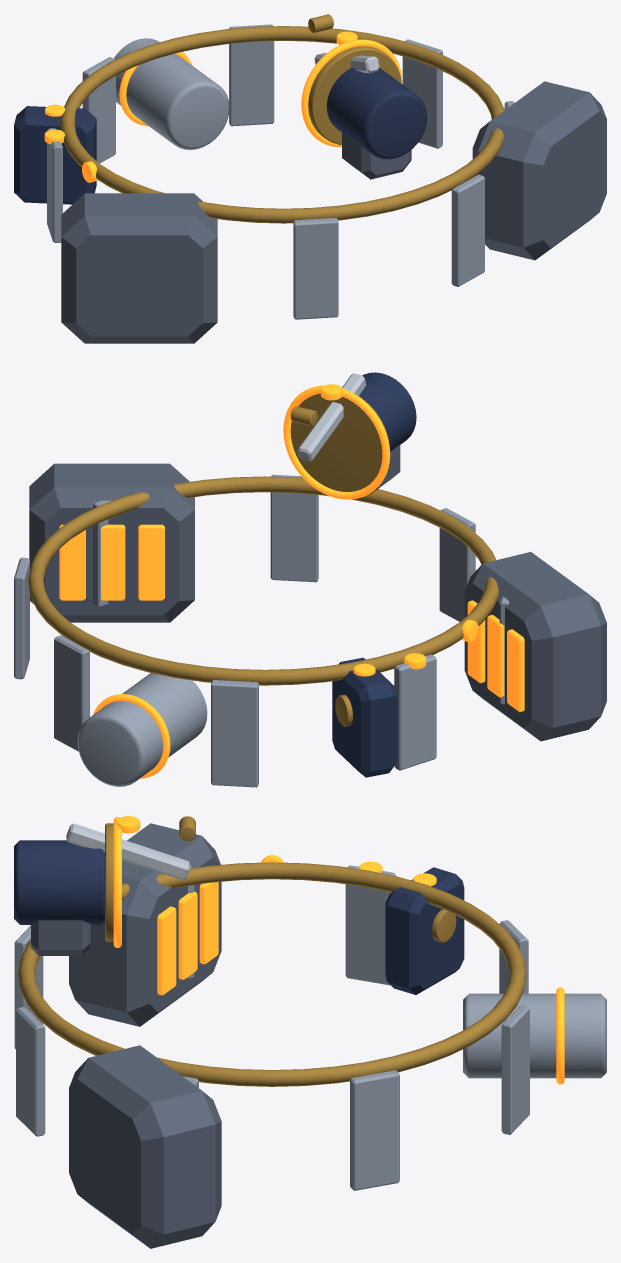
Rendered from tower_overclock_efficiency_s9.glb.
3 renders of one model, top to bottom at view 1: azimuth 30°, elevation 25°; view 2: azimuth 150°, elevation 25°; view 3: azimuth 270°, elevation 25°, orthographic. The views are drawn at different scales.
Visible parts, largest first — view 1: overclock_battery_b, overclock_battery, overclock_coolant_loop, overclock_reserve_cell, overclock_governor, overclock_regulator, overclock_base_fin6, overclock_base_fin2, overclock_base_fin5, overclock_governor_wheel, overclock_base_fin3, overclock_base_fin1 (+5 smaller); view 2: overclock_battery_b, overclock_battery, overclock_coolant_loop, overclock_reserve_cell, overclock_regulator, overclock_governor_wheel, overclock_base_fin1, overclock_base_fin5, overclock_base_fin0, overclock_base_fin2, overclock_base_fin6, overclock_governor (+11 smaller); view 3: overclock_battery, overclock_coolant_loop, overclock_battery_b, overclock_reserve_cell, overclock_governor, overclock_regulator, overclock_base_fin3, overclock_base_fin0, overclock_base_fin5, overclock_base_fin2, overclock_linkage, overclock_governor_mount (+9 smaller).
Part boxes in pixels (left/top/right/bottom): overclock_battery_b: left=61, top=193, right=217, bottom=343; overclock_battery: left=472, top=81, right=606, bottom=260; overclock_coolant_loop: left=60, top=26, right=504, bottom=223; overclock_reserve_cell: left=114, top=38, right=229, bottom=149; overclock_governor: left=326, top=67, right=426, bottom=159; overclock_regulator: left=14, top=106, right=96, bottom=204; overclock_base_fin6: left=293, top=218, right=338, bottom=319; overclock_base_fin2: left=229, top=24, right=274, bottom=126; overclock_base_fin5: left=451, top=174, right=484, bottom=286; overclock_governor_wheel: left=308, top=46, right=401, bottom=144; overclock_base_fin3: left=402, top=39, right=442, bottom=148; overclock_base_fin1: left=82, top=57, right=115, bottom=163; overclock_battery_b: left=464, top=552, right=606, bottom=741; overclock_battery: left=29, top=463, right=194, bottom=622; overclock_coolant_loop: left=28, top=476, right=498, bottom=685; overclock_reserve_cell: left=77, top=673, right=207, bottom=786; overclock_regulator: left=332, top=657, right=396, bottom=777; overclock_governor_wheel: left=290, top=393, right=388, bottom=491; overclock_base_fin1: left=211, top=680, right=258, bottom=787; overclock_base_fin5: left=270, top=474, right=318, bottom=582; overclock_base_fin0: left=394, top=654, right=436, bottom=770; overclock_base_fin2: left=54, top=635, right=89, bottom=751; overclock_base_fin6: left=439, top=508, right=475, bottom=621; overclock_governor: left=359, top=372, right=416, bottom=451; overclock_battery: left=69, top=1045, right=221, bottom=1248; overclock_coolant_loop: left=18, top=862, right=526, bottom=1086; overclock_battery_b: left=69, top=823, right=221, bottom=1026; overclock_reserve_cell: left=463, top=993, right=606, bottom=1078; overclock_governor: left=14, top=840, right=104, bottom=924; overclock_regulator: left=385, top=867, right=464, bottom=994; overclock_base_fin3: left=350, top=1070, right=399, bottom=1190; overclock_base_fin0: left=345, top=865, right=395, bottom=985; overclock_base_fin5: left=16, top=1007, right=45, bottom=1136; overclock_base_fin2: left=501, top=1005, right=529, bottom=1134; overclock_linkage: left=66, top=823, right=190, bottom=879; overclock_governor_mount: left=31, top=920, right=90, bottom=955.
Size of the model in its own units: 1.67 by 0.7511 by 1.4.
